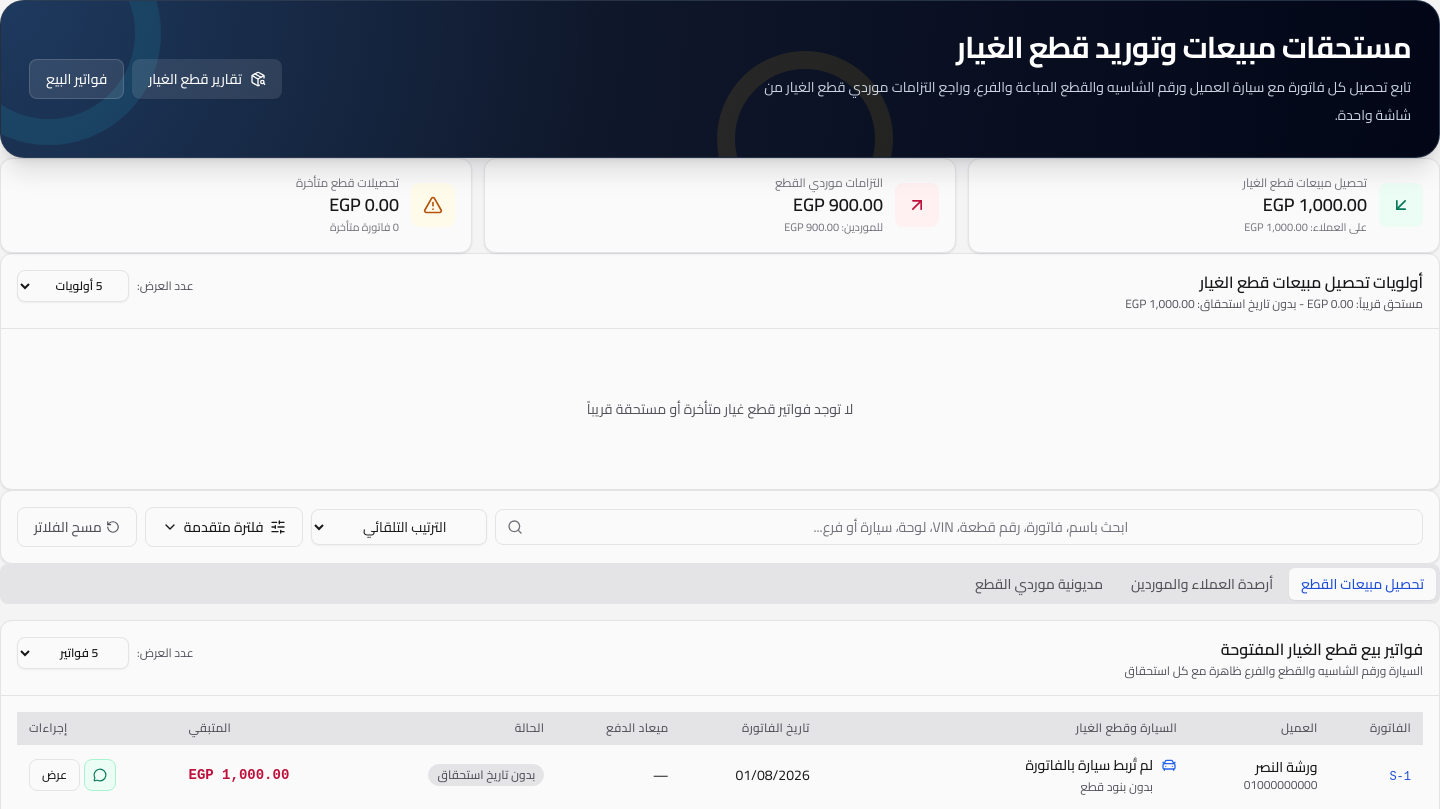
settling a balance asks first — TC-DUES-SETTLE › TC-DUES-SETTLE-002: clicking settle moves no money — it only opens a dialog
Click the button "أرصدة العملاء والموردين": click(1202, 584) [1119,568,1285,600]
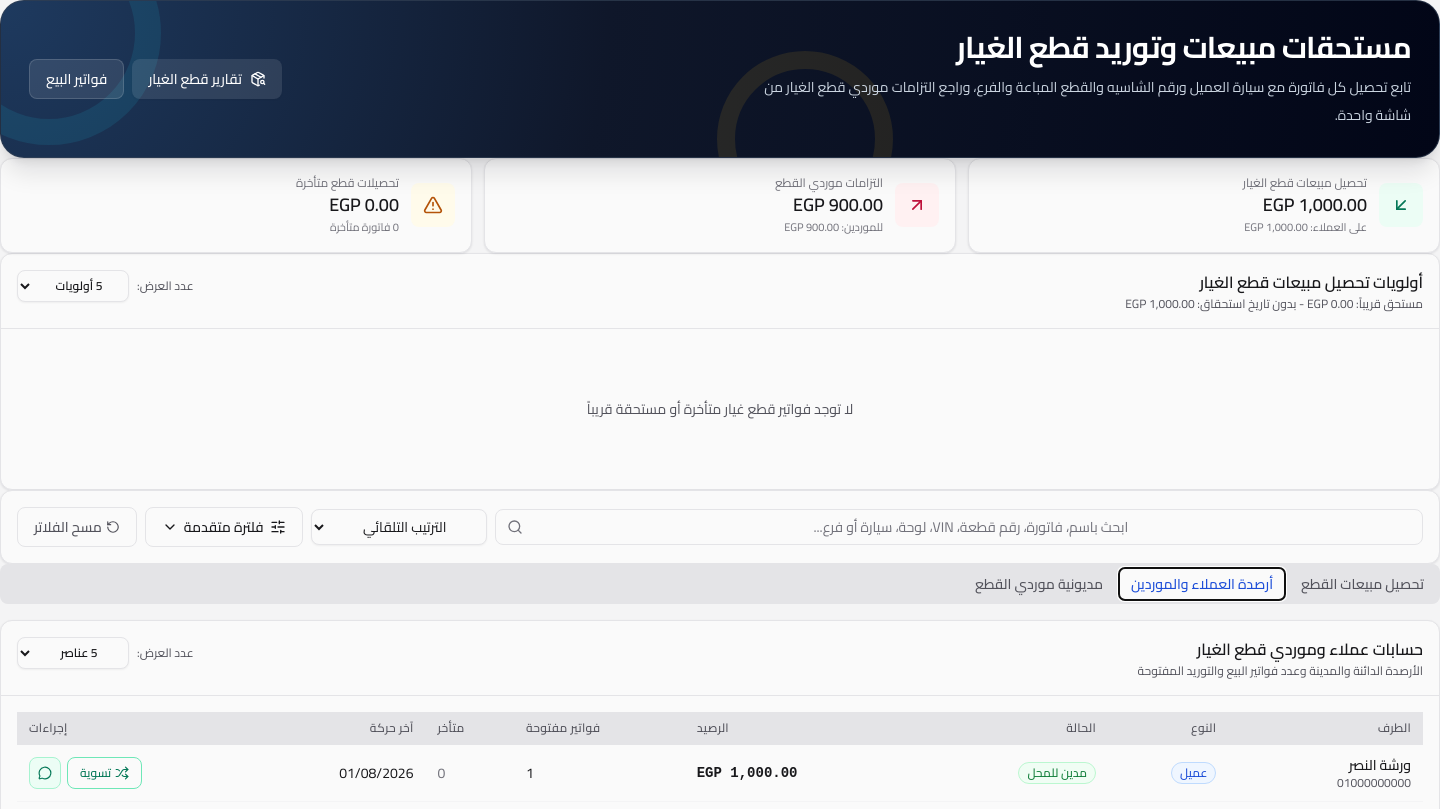
Expected: the button "تسوية" is shown
Click the button "تسوية": click(105, 772) [67,756,142,788]
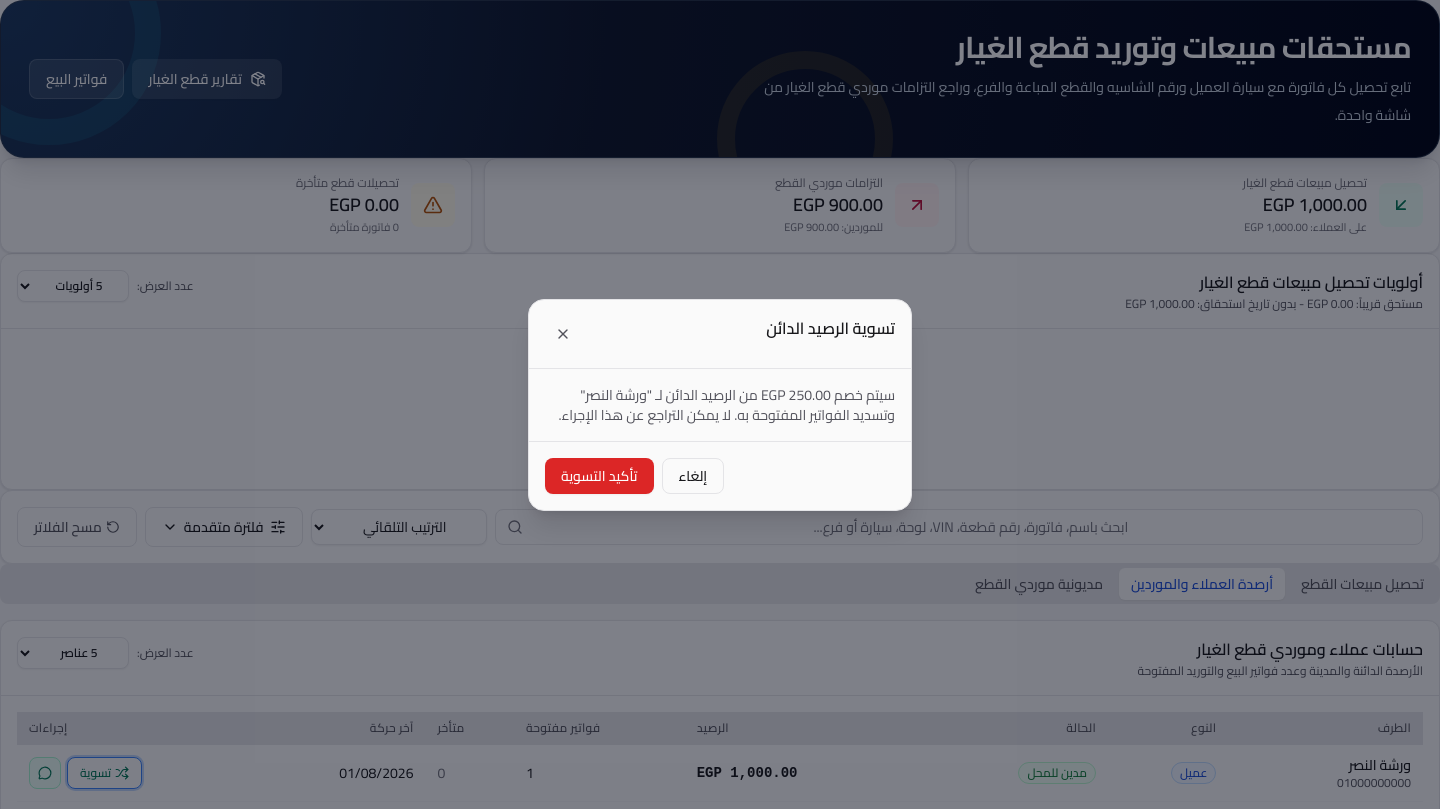
Expected: the dialog is shown, [528,299,912,511]
